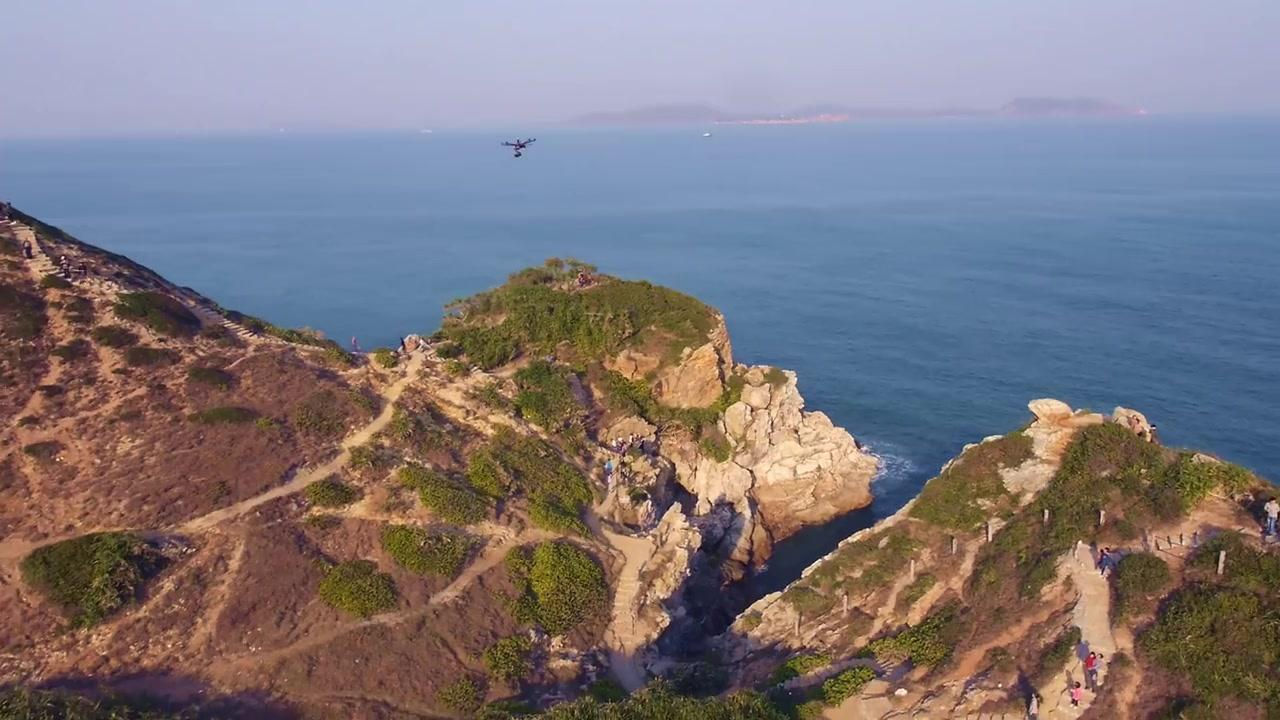UAV: (501, 138, 537, 159)
